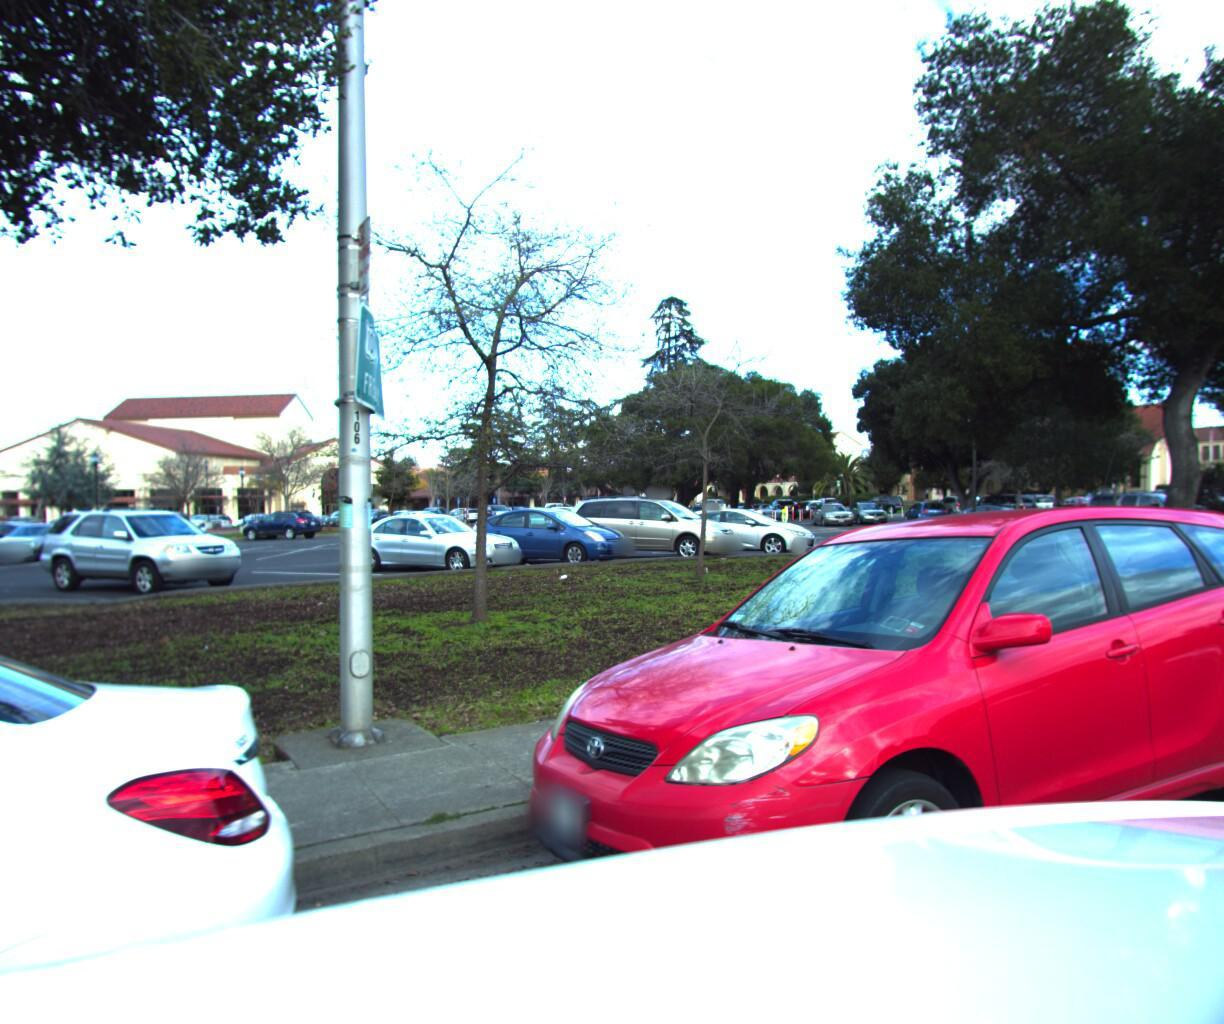car: (470, 497, 1224, 1024)
